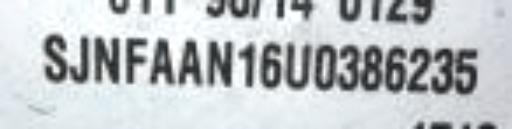letter: (202, 34, 238, 93), (172, 35, 206, 90), (38, 31, 74, 82), (280, 38, 312, 93), (452, 48, 486, 97), (148, 35, 178, 90), (90, 35, 122, 86), (308, 38, 340, 89), (424, 45, 456, 96), (256, 38, 286, 89), (357, 42, 385, 93), (119, 34, 147, 83), (235, 38, 259, 93), (382, 42, 406, 93), (407, 48, 431, 97), (336, 42, 358, 93), (70, 35, 90, 86)
